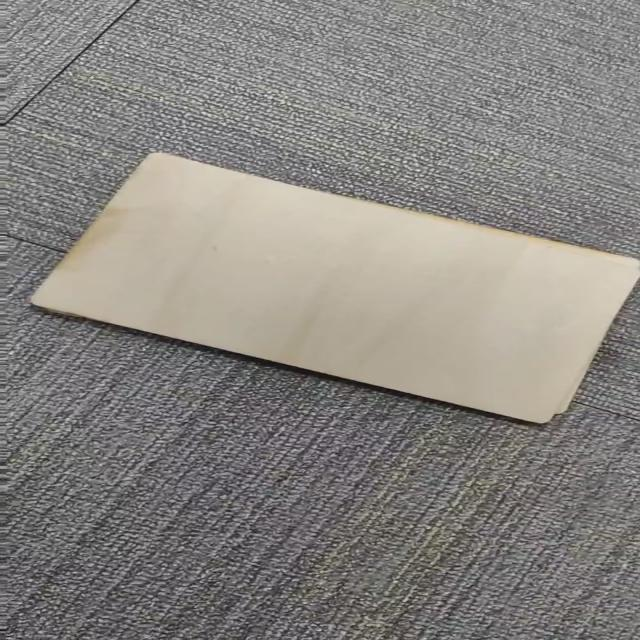carton: (32, 154, 639, 423)
